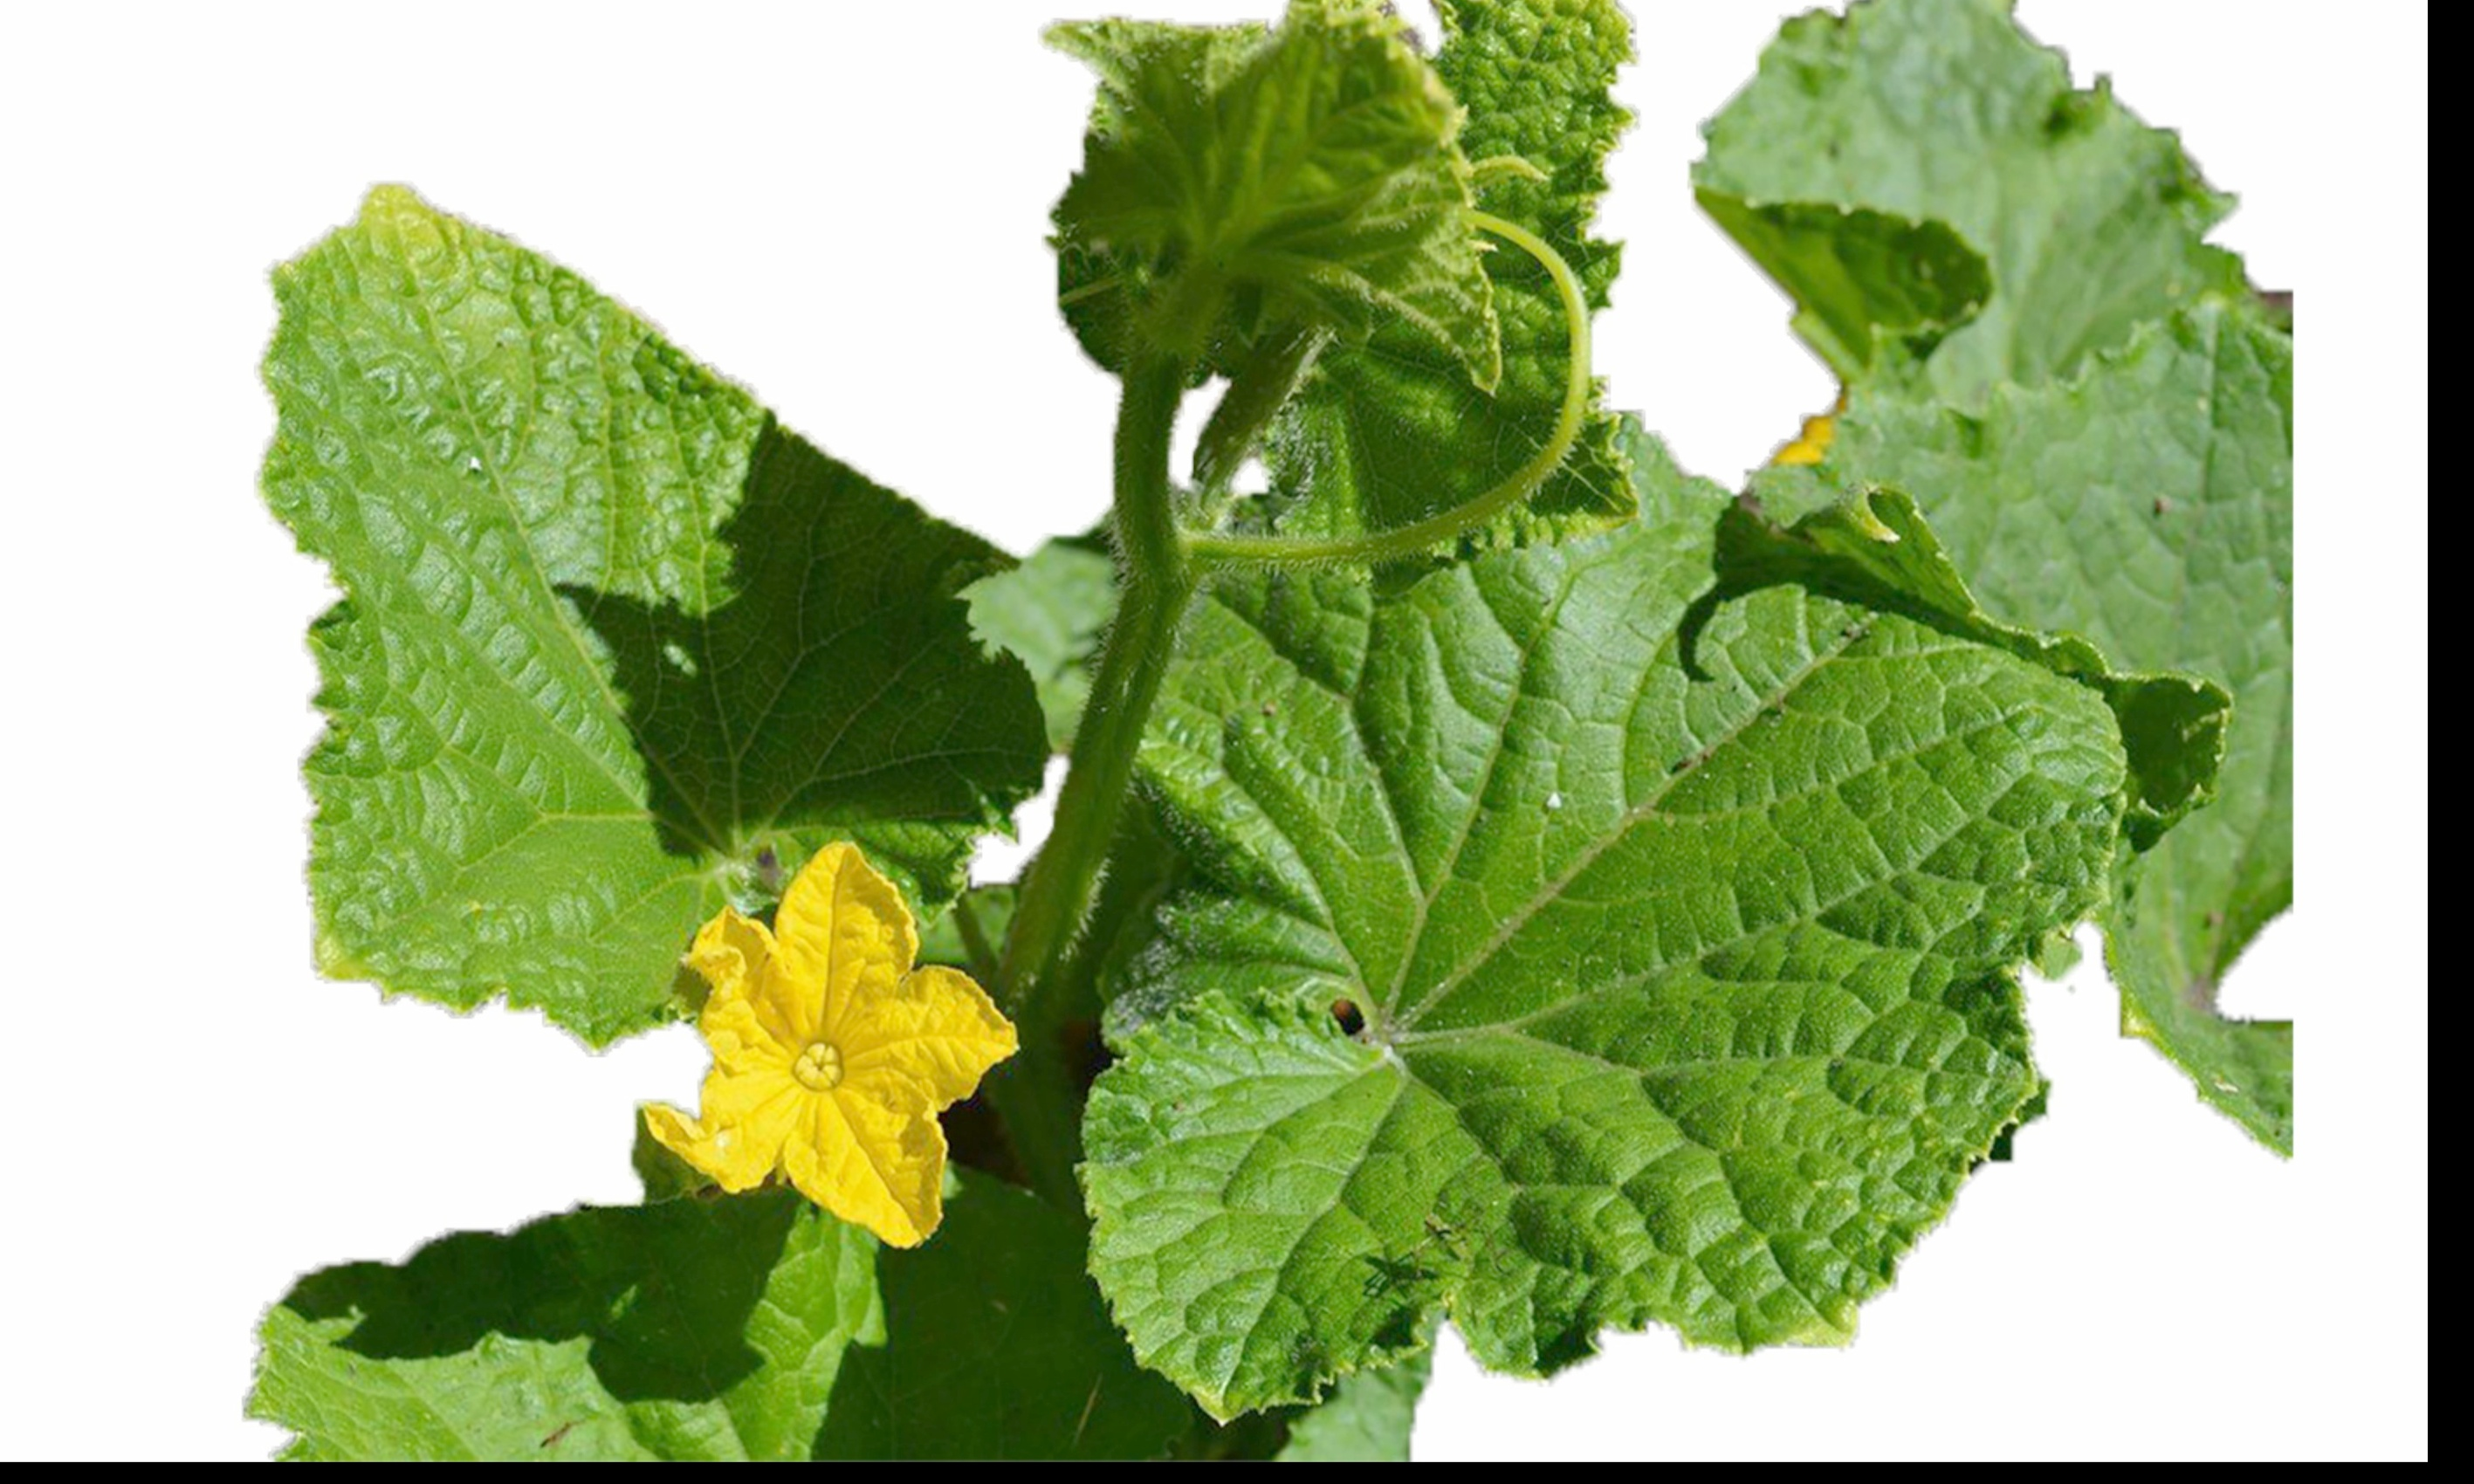cucumber_plant: (251, 175, 2146, 1461)
